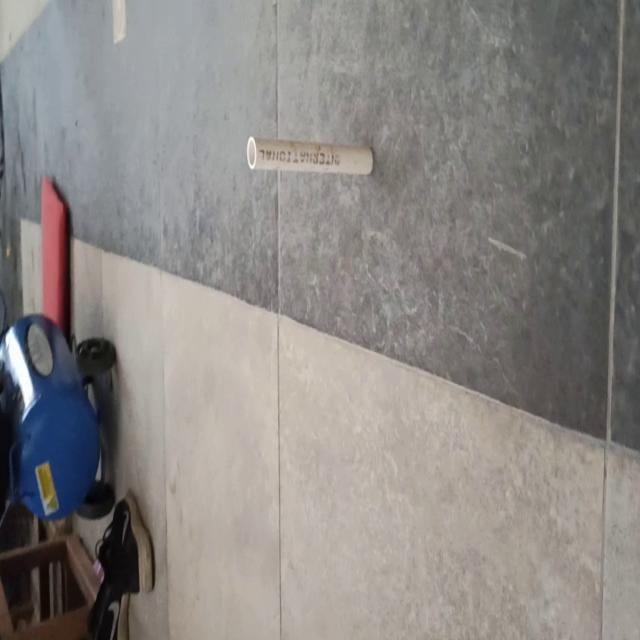Cube: (245, 133, 374, 177)
